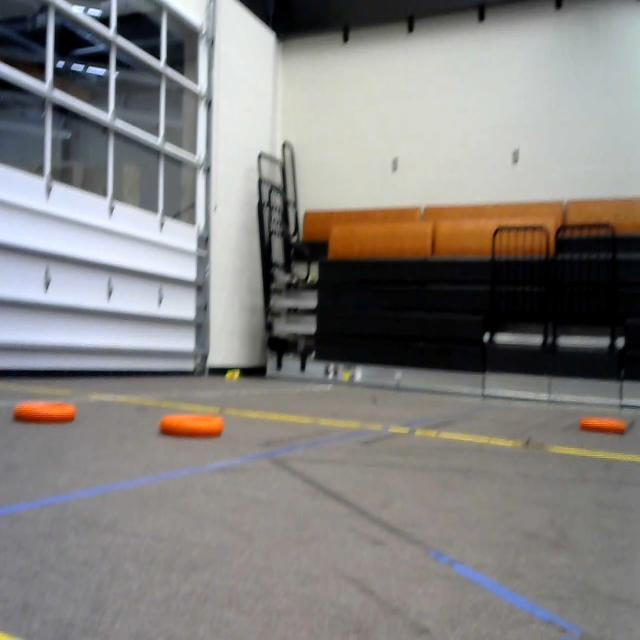note: (153, 405, 229, 450), (12, 393, 83, 427), (580, 410, 629, 440)
